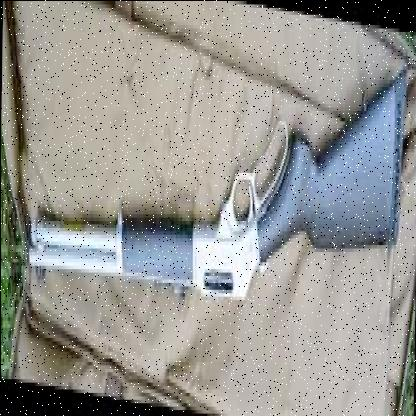rifle: (24, 7, 408, 347)
